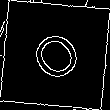O_SE: (22, 22, 88, 88)
